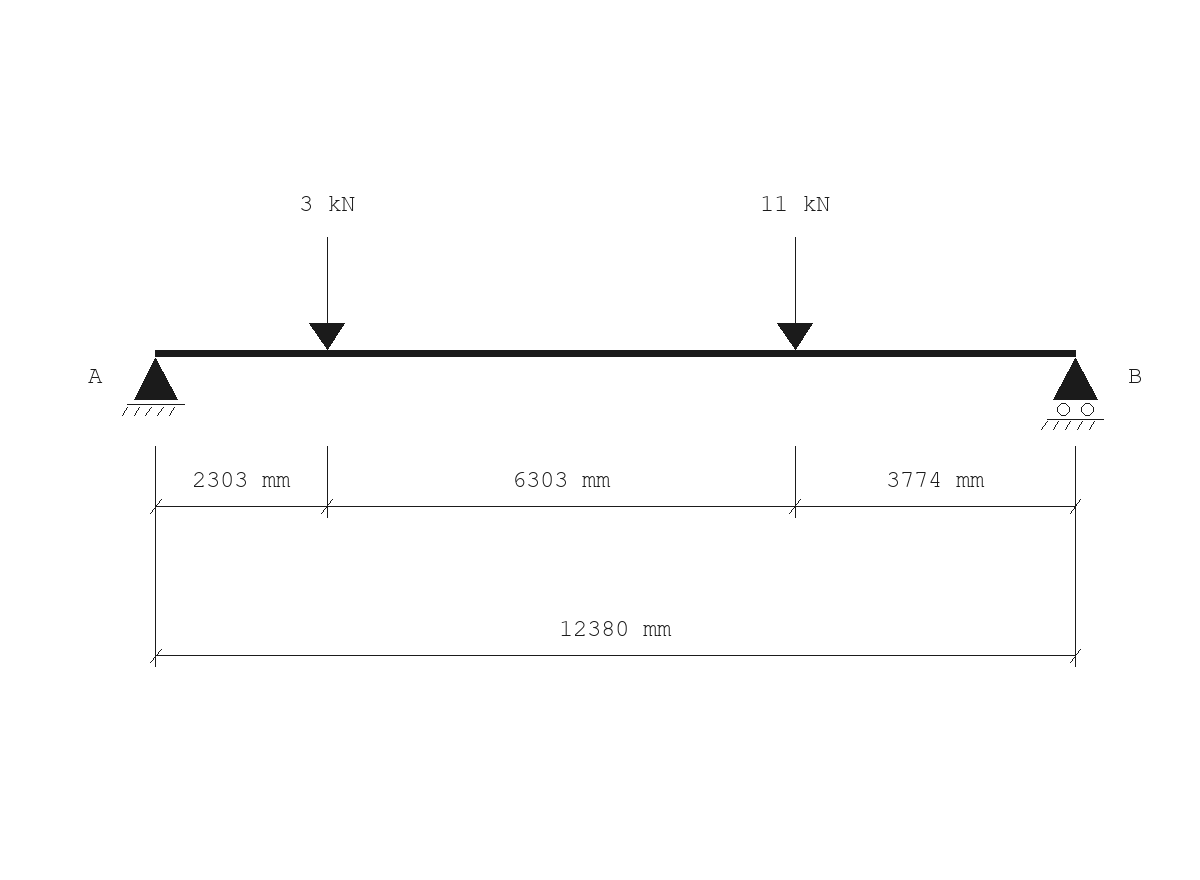pin_support: (122, 358, 185, 416)
point_load: (309, 237, 345, 350), (777, 237, 813, 350)
roller_support: (1041, 358, 1104, 430)
